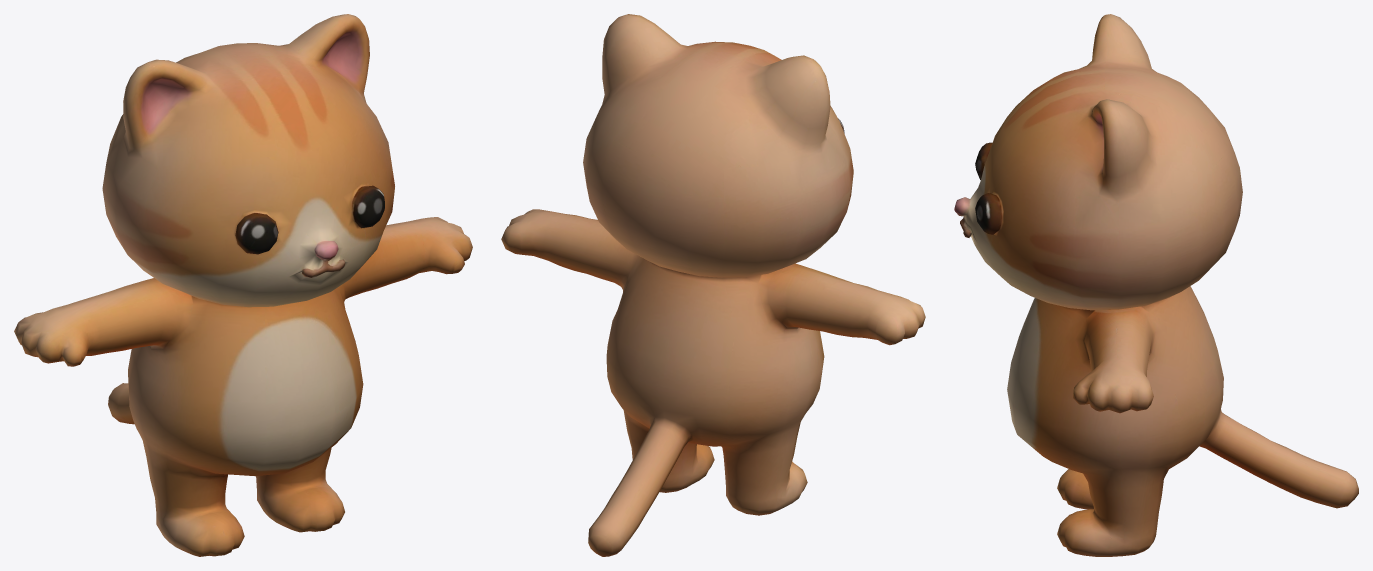
Rendered from cat.glb.
3 renders of one model, left to right at view 1: azimuth 30°, elevation 25°; view 2: azimuth 150°, elevation 25°; view 3: azimuth 270°, elevation 25°, orthographic. The views are drawn at different scales.
Visible parts, largest first — view 1: tripo_node_38066fde-1e54-40c7-ad1a-008b47350782; view 2: tripo_node_38066fde-1e54-40c7-ad1a-008b47350782; view 3: tripo_node_38066fde-1e54-40c7-ad1a-008b47350782.
Part boxes in pixels (x1,y1,x2,y2): tripo_node_38066fde-1e54-40c7-ad1a-008b47350782: (14, 14, 472, 556); tripo_node_38066fde-1e54-40c7-ad1a-008b47350782: (501, 14, 925, 556); tripo_node_38066fde-1e54-40c7-ad1a-008b47350782: (954, 14, 1358, 556).
Bounding box in the file's own units: 0.928 × 0.9778 × 0.775.
1 material, 1 textured.
